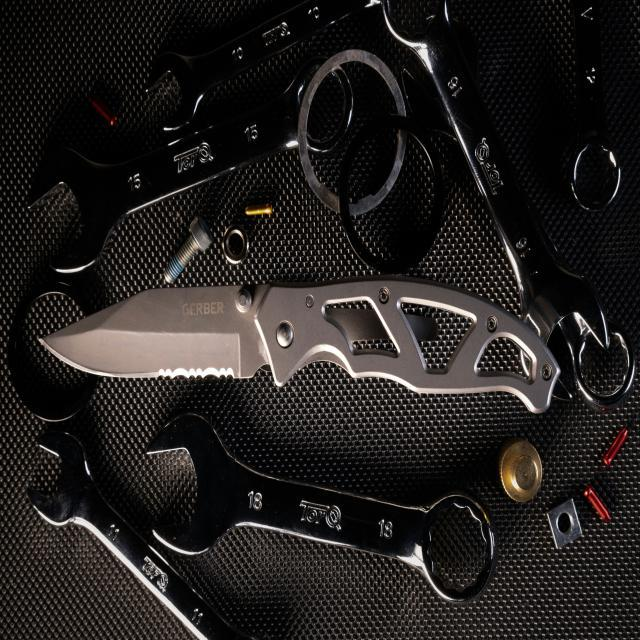knife: (42, 277, 562, 418)
